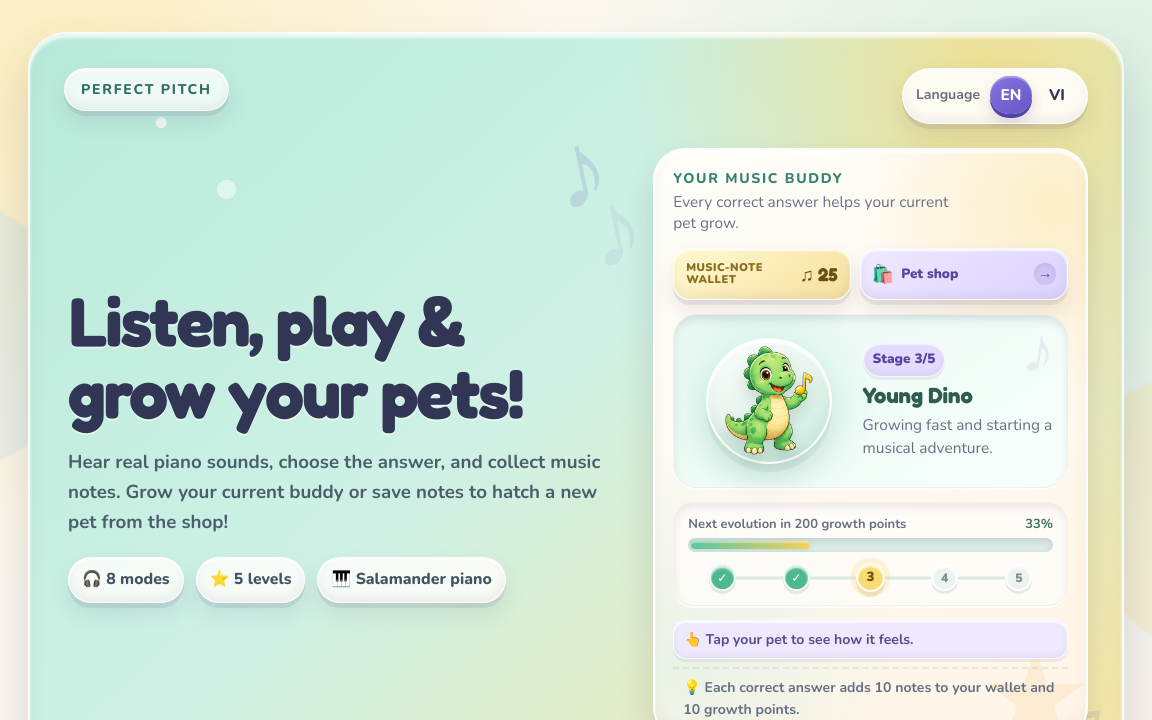
Test: PerfectPitchApp › switches between owned pets without spending notes again
Click the button "🛍️ Pet shop →": (964,274) left=860, top=248, right=1068, bottom=300
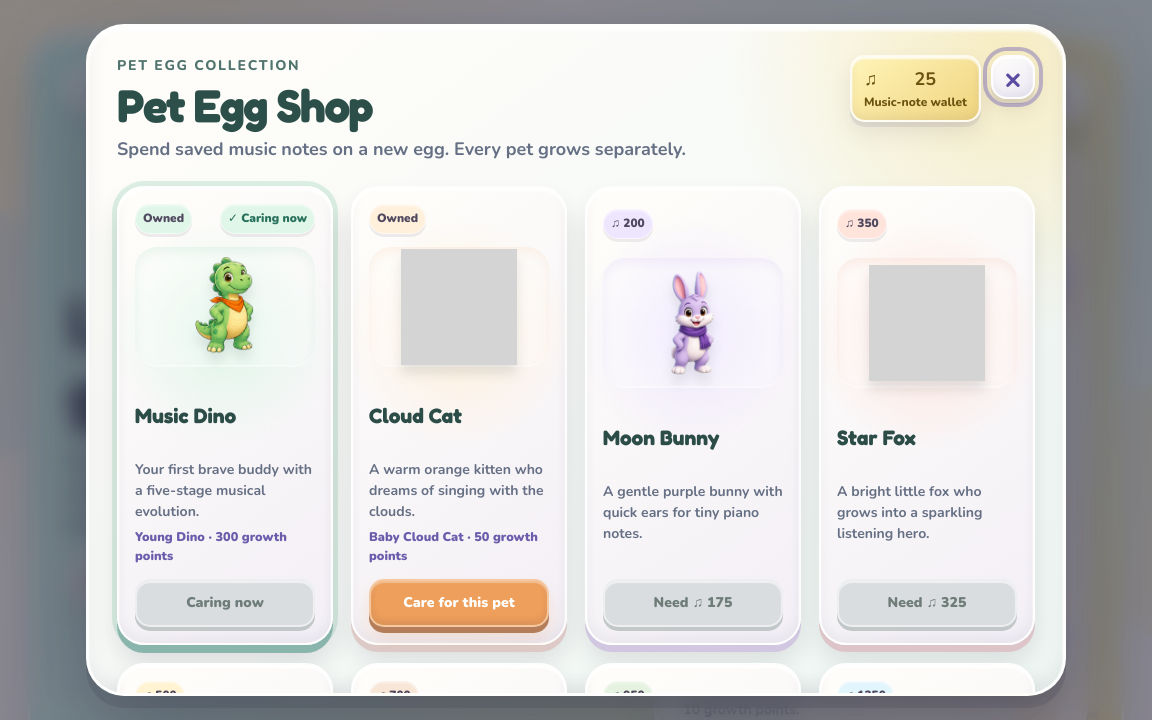
Expected: the dialog "Pet Egg Shop" is shown
Click the button "Care for this pet": (459,603) left=369, top=579, right=549, bottom=627
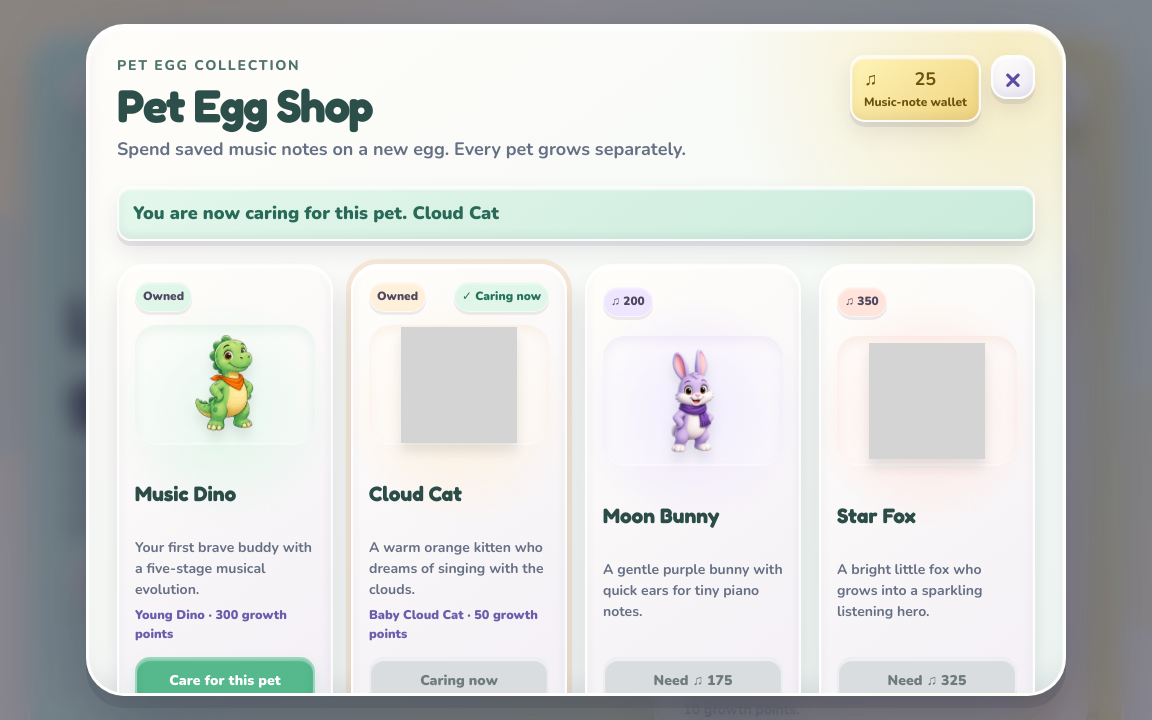
Expected: the picture named "Baby Cloud Cat" is shown, left=701, top=333, right=837, bottom=469
